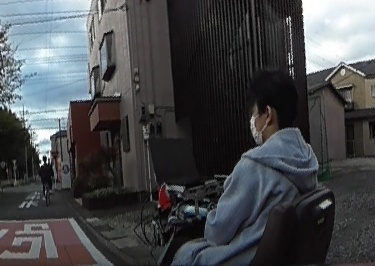person: (191, 73, 321, 266), (36, 153, 54, 199)
